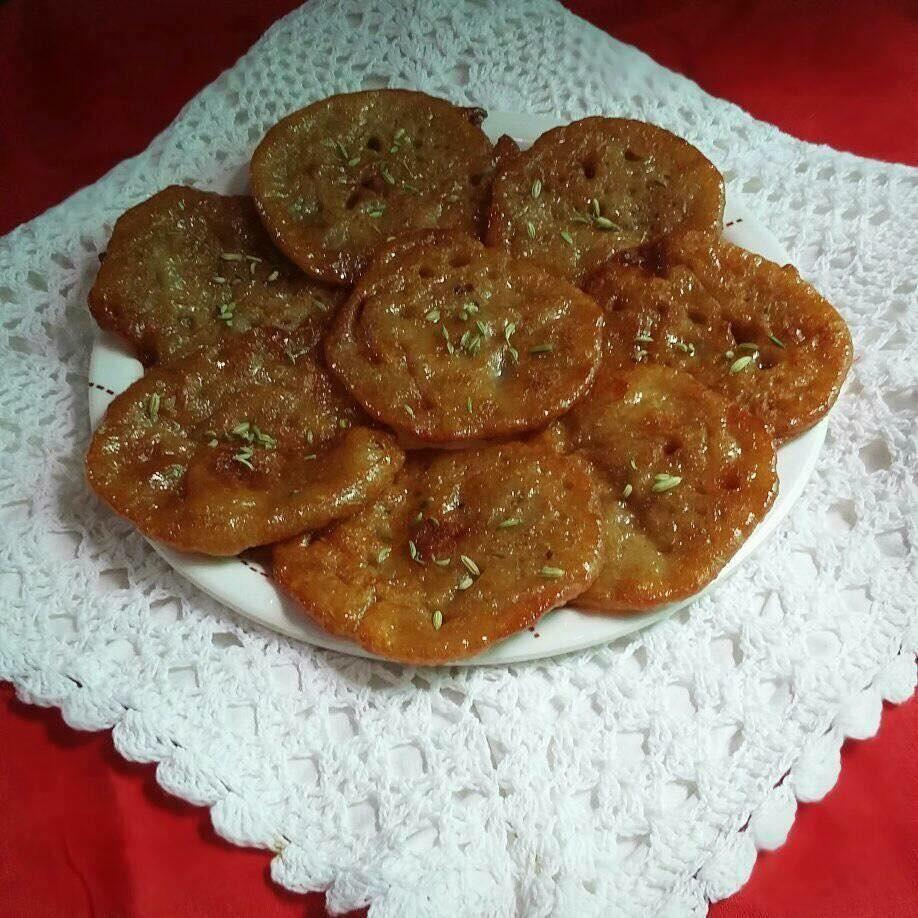chapati: (326, 231, 602, 441)
